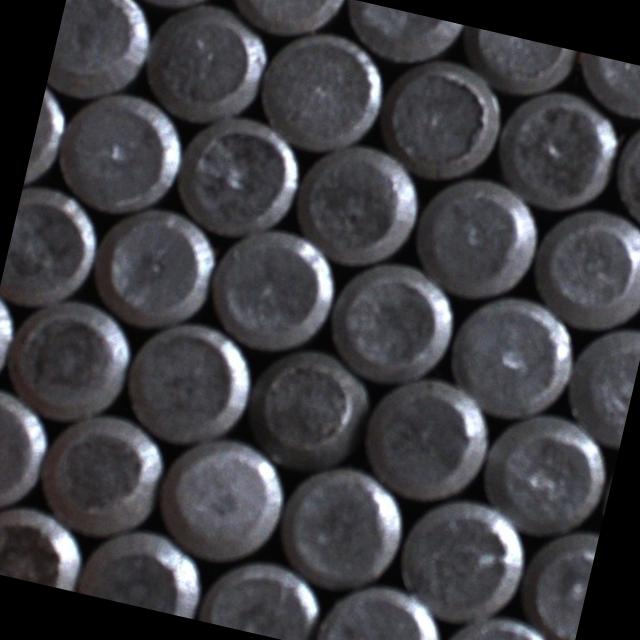tool: (350, 363, 500, 513), (386, 484, 536, 634), (111, 307, 262, 456), (197, 214, 345, 364), (148, 423, 296, 572), (470, 400, 618, 548), (268, 451, 414, 601), (245, 18, 393, 165), (283, 130, 430, 278), (402, 163, 548, 311), (438, 283, 584, 430), (29, 401, 175, 548), (47, 78, 192, 226), (320, 247, 464, 395), (486, 76, 630, 222), (368, 46, 512, 192), (165, 104, 308, 248), (0, 286, 141, 432), (83, 194, 225, 338), (237, 333, 378, 477), (133, 0, 275, 134), (519, 194, 640, 341), (0, 178, 108, 317), (74, 516, 211, 620), (45, 0, 162, 111), (194, 548, 328, 640), (552, 313, 640, 449), (509, 517, 599, 640), (455, 26, 581, 106), (333, 0, 463, 75), (313, 570, 451, 640), (0, 493, 91, 592), (0, 382, 58, 521), (217, 0, 345, 50), (564, 51, 640, 132), (433, 600, 569, 640), (600, 101, 640, 236), (100, 0, 229, 21)
